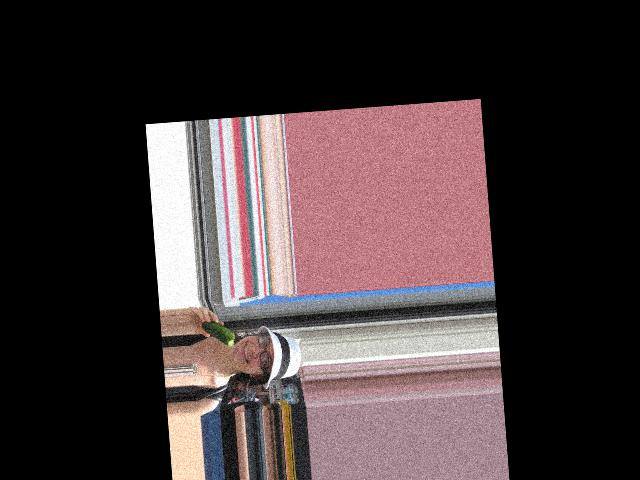cucumber: (201, 318, 235, 348)
